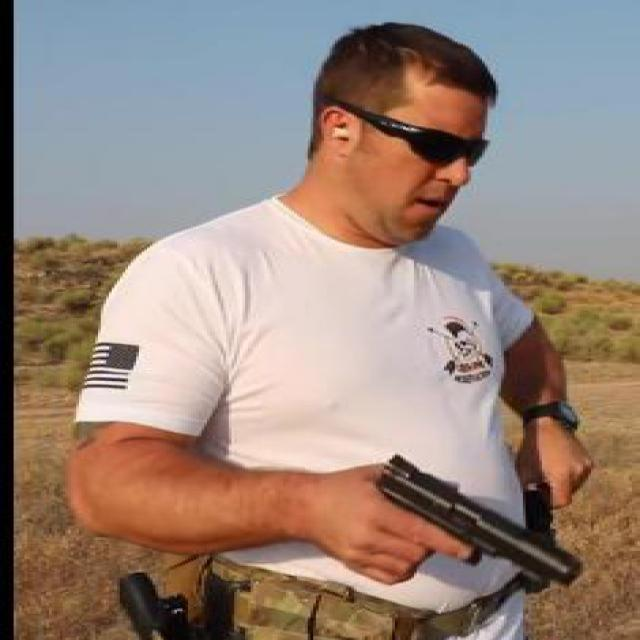weapon: (374, 451, 586, 586)
